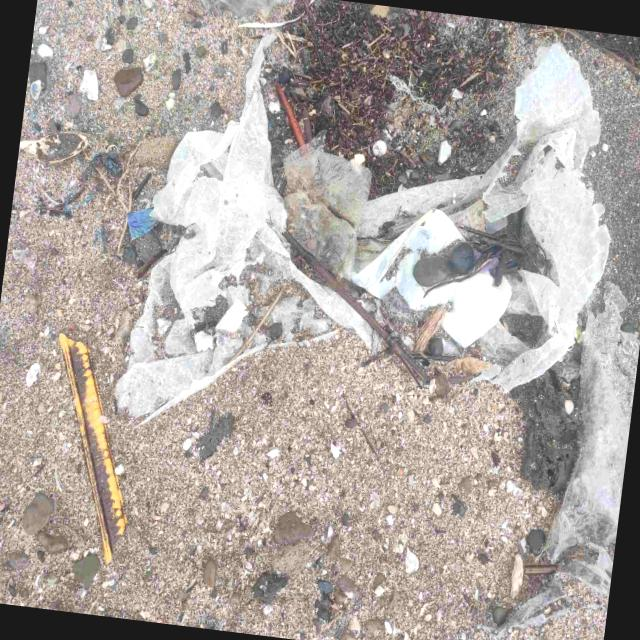kim_loai: (58, 333, 125, 564)
nhua: (116, 33, 377, 416), (433, 44, 610, 389), (549, 283, 640, 594), (355, 197, 512, 346)
rac_huu_co: (284, 233, 446, 385), (420, 196, 550, 291)
